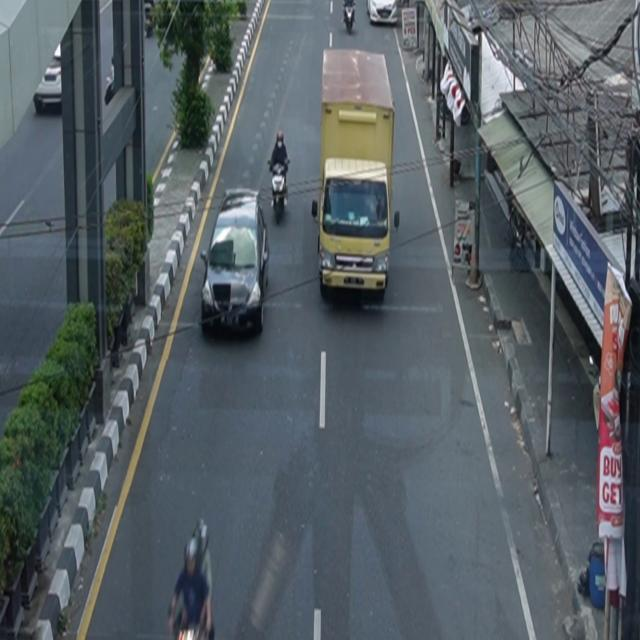car: (201, 189, 270, 337), (368, 1, 399, 26)
truck: (313, 47, 401, 302)
